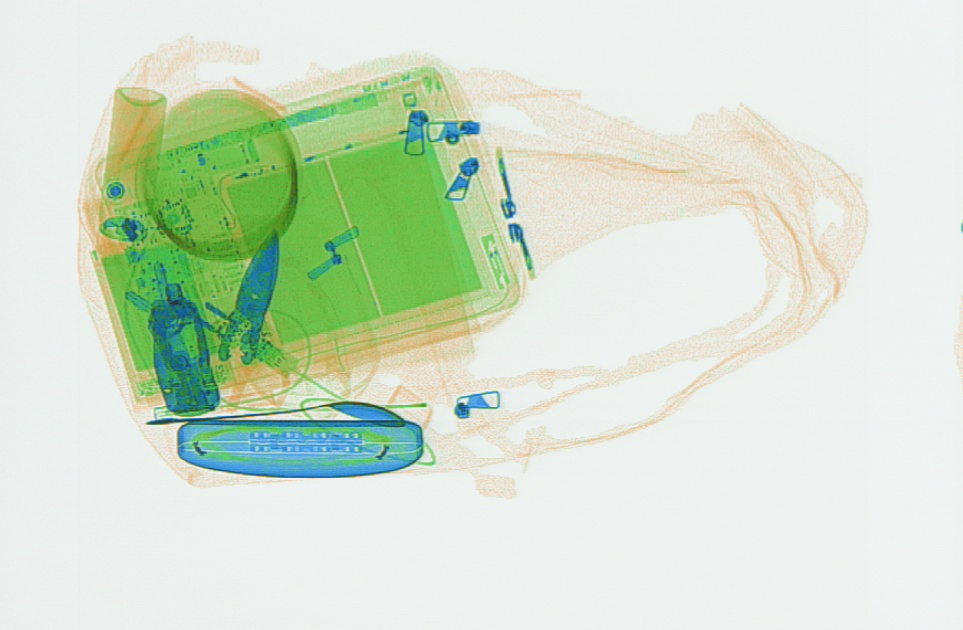knife: (149, 276, 226, 416)
pressure: (100, 82, 169, 243)
scissors: (183, 231, 291, 415)
